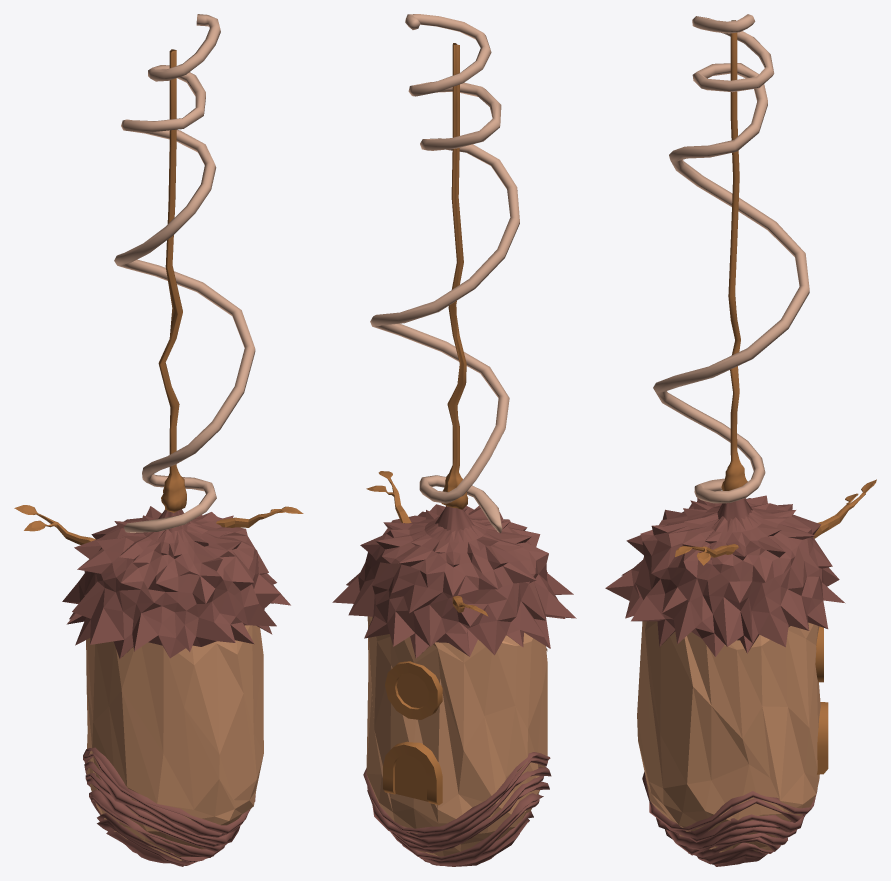
Rendered from 房子长.fbx.
3 renders of one model, left to right at view 1: azimuth 30°, elevation 25°; view 2: azimuth 150°, elevation 25°; view 3: azimuth 270°, elevation 25°, orthographic. The views are drawn at different scales.
Parts seen in each view (by area): view 1: HOUSE2:polySurface1, polySurface2, pDisc1_displacement1, HOUSE2:polySurface4, polySurface5, pasted__pasted__pCube1, pasted__pCube1; view 2: HOUSE2:polySurface1, polySurface2, pDisc1_displacement1, HOUSE2:polySurface4, HOUSE2:pasted__pTorus1 (×2), polySurface5, pasted__pCube1; view 3: HOUSE2:polySurface1, polySurface2, pDisc1_displacement1, HOUSE2:polySurface4, polySurface5, HOUSE2:pasted__pTorus1, pasted__pasted__pCube1, pasted__pCube1.
Boxes of the visible parts, box(x1,y1,x2,y2) form: HOUSE2:polySurface1: box(86, 625, 263, 860); polySurface2: box(62, 506, 290, 658); pDisc1_displacement1: box(114, 14, 255, 532); HOUSE2:polySurface4: box(83, 747, 255, 866); polySurface5: box(158, 49, 186, 512); pasted__pasted__pCube1: box(14, 505, 95, 544); pasted__pCube1: box(216, 506, 303, 527); HOUSE2:polySurface1: box(366, 616, 547, 856); polySurface2: box(332, 504, 576, 658); pDisc1_displacement1: box(370, 14, 519, 533); HOUSE2:polySurface4: box(363, 752, 551, 866); HOUSE2:pasted__pTorus1 (×2): box(383, 661, 442, 805); polySurface5: box(441, 43, 468, 509); pasted__pCube1: box(366, 471, 411, 523); HOUSE2:polySurface1: box(637, 621, 820, 852); polySurface2: box(605, 495, 845, 656); pDisc1_displacement1: box(653, 14, 809, 503); HOUSE2:polySurface4: box(642, 772, 817, 866); polySurface5: box(721, 20, 747, 490); HOUSE2:pasted__pTorus1: box(817, 702, 828, 774); pasted__pasted__pCube1: box(813, 479, 876, 538); pasted__pCube1: box(675, 544, 738, 565).
Size of the model in its own units: 2.68 by 10.39 by 2.98.
